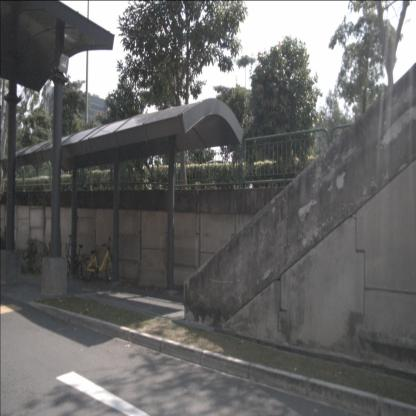vehicle-bicycle: (80, 236, 118, 282), (60, 235, 88, 280)
